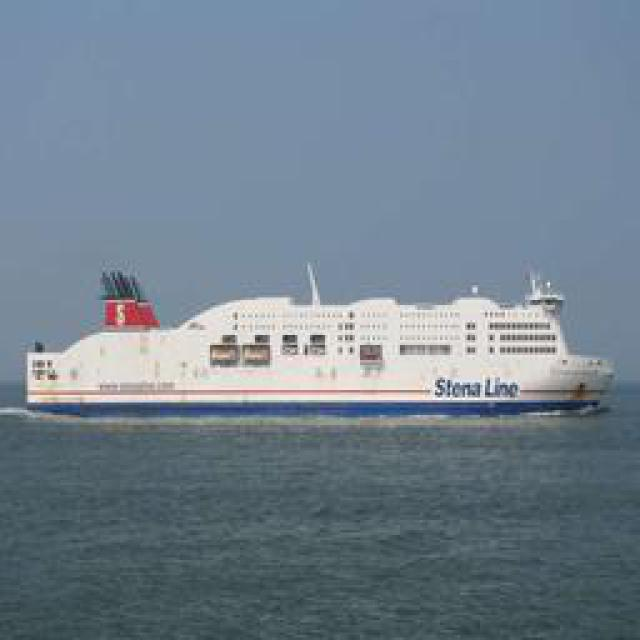Ship: (30, 259, 618, 419)
